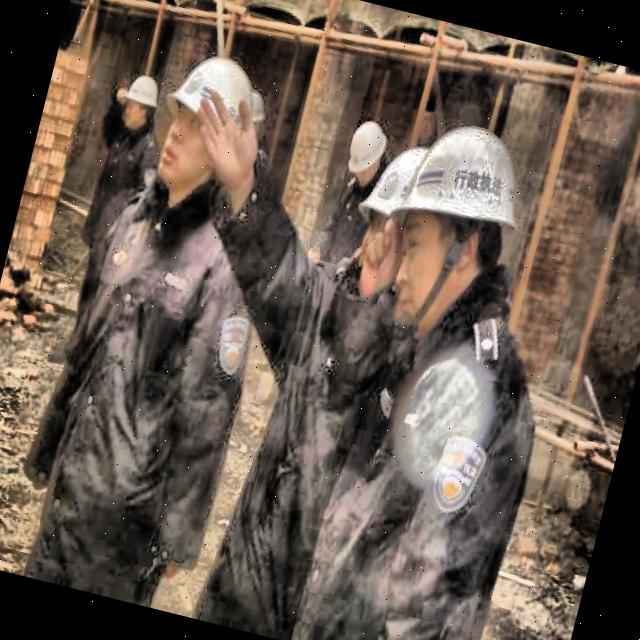helmet: (358, 102, 540, 337), (144, 47, 270, 215), (340, 134, 440, 316), (334, 108, 394, 196), (115, 66, 167, 139)
